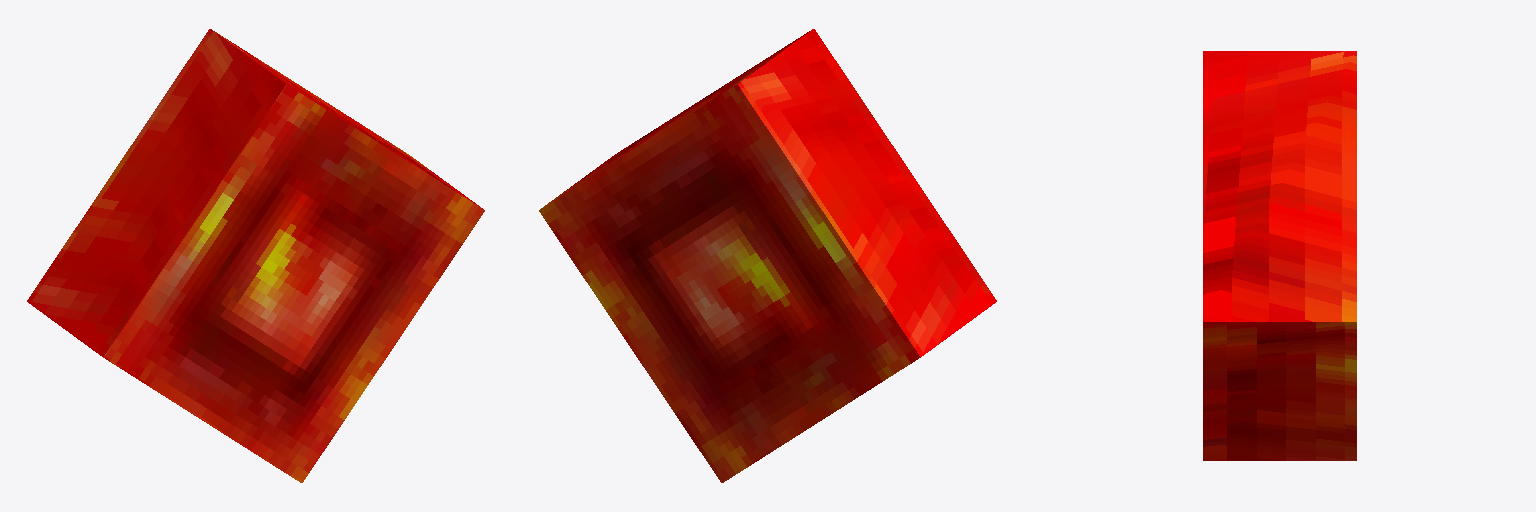
3 renders of one model, left to right at view 1: azimuth 30°, elevation 25°; view 2: azimuth 150°, elevation 25°; view 3: azimuth 270°, elevation 25°, orthographic.
Parts seen in each view (by area): view 1: Box06; view 2: Box06; view 3: Box06.
Part boxes in pixels (x1,y1,x2,y2): Box06: (27,29,484,482); Box06: (539,29,996,482); Box06: (1203,51,1356,460).
Bounding box in the file's own units: 3.64 × 3.67 × 1.26.
1 materials, 1 textured.